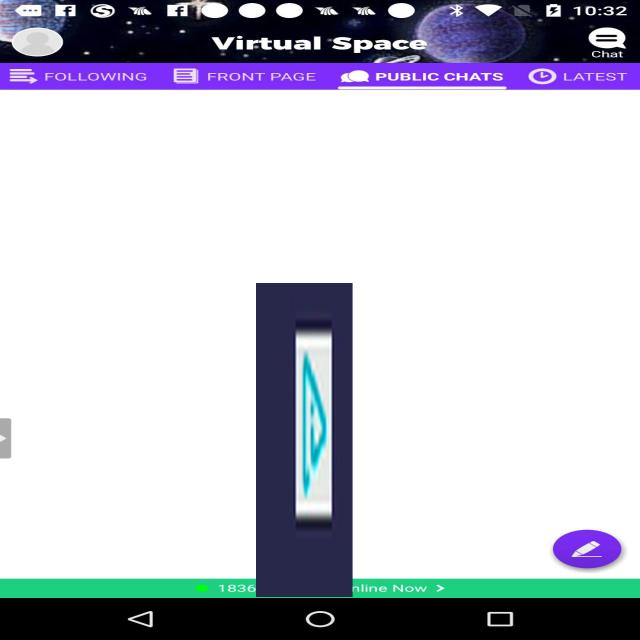sneaking: (256, 283, 353, 597)
